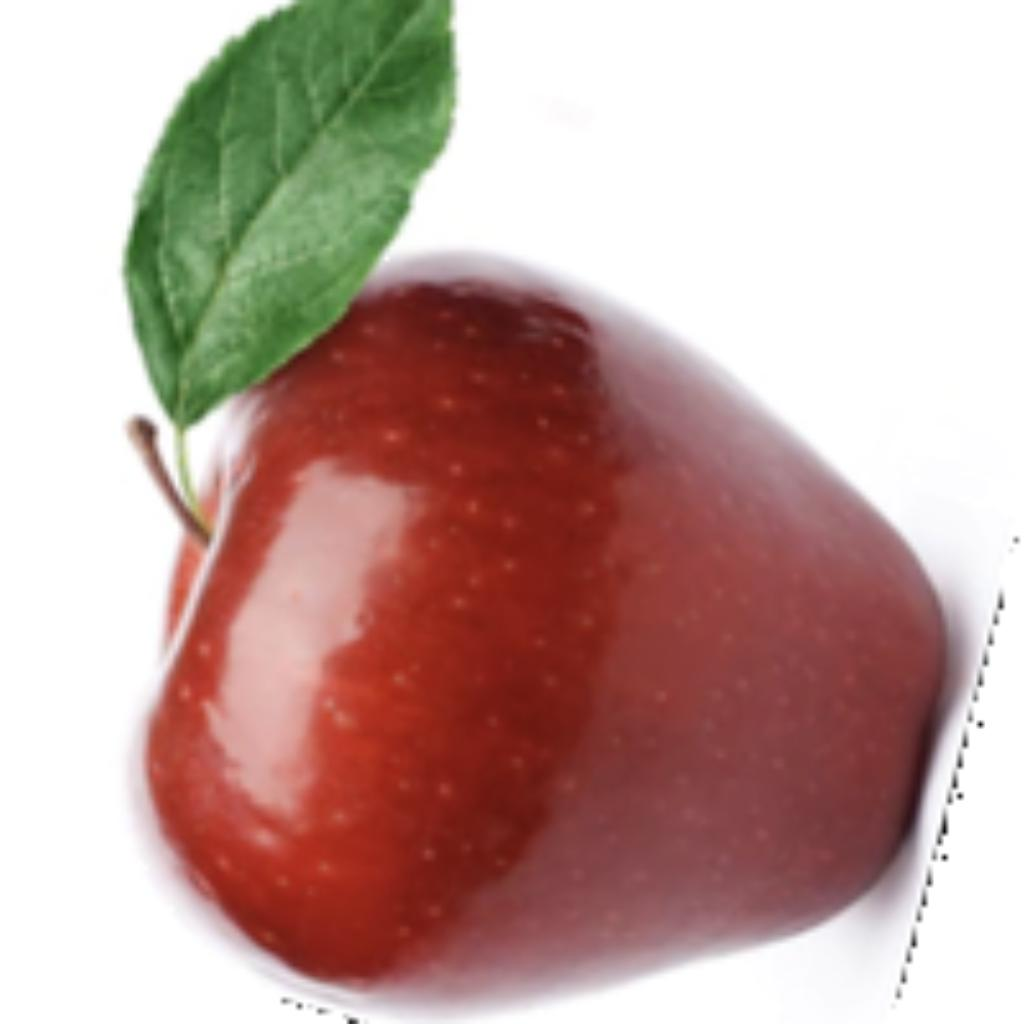apple: (113, 0, 1019, 1019)
